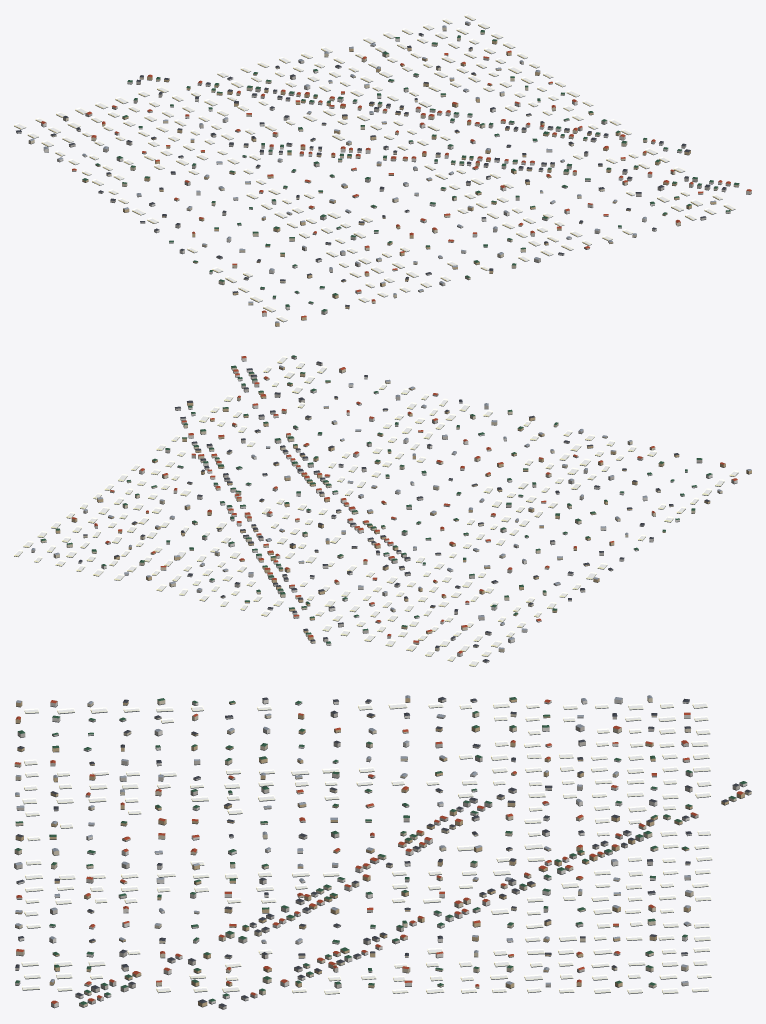
The model's file is buildings_T_E07_S03.glb.
3 views of the same model, one above another, from view 1: azimuth 30°, elevation 25°; view 2: azimuth 150°, elevation 25°; view 3: azimuth 270°, elevation 25° (orthographic). The views are drawn at different scales.
Visible parts, largest first — view 1: T_E07_S03_roofs_agri_greenhouse_arch, T_E07_S03_slope_seating_foundations, T_E07_S03_walls_wall_french_ochre_villa, T_E07_S03_walls_wall_dalat_cream_stucco, T_E07_S03_roofs_roof_pine_green_hip, T_E07_S03_walls_wall_pastel_sand_gray, T_E07_S03_walls_wall_modern_warm_white, T_E07_S03_roofs_roof_slate_French_villa_hip, T_E07_S03_roofs_roof_terracotta_gable, T_E07_S03_roofs_roof_zinc_silver_gable; view 2: T_E07_S03_roofs_agri_greenhouse_arch, T_E07_S03_slope_seating_foundations, T_E07_S03_walls_wall_french_ochre_villa, T_E07_S03_walls_wall_dalat_cream_stucco, T_E07_S03_roofs_roof_pine_green_hip, T_E07_S03_walls_wall_pastel_sand_gray, T_E07_S03_walls_wall_modern_warm_white, T_E07_S03_roofs_roof_slate_French_villa_hip, T_E07_S03_roofs_roof_terracotta_gable, T_E07_S03_roofs_roof_zinc_silver_gable; view 3: T_E07_S03_roofs_agri_greenhouse_arch, T_E07_S03_slope_seating_foundations, T_E07_S03_walls_wall_french_ochre_villa, T_E07_S03_walls_wall_dalat_cream_stucco, T_E07_S03_walls_wall_pastel_sand_gray, T_E07_S03_roofs_roof_pine_green_hip, T_E07_S03_walls_wall_modern_warm_white, T_E07_S03_roofs_roof_slate_French_villa_hip, T_E07_S03_roofs_roof_terracotta_gable, T_E07_S03_roofs_roof_zinc_silver_gable.
Part boxes in pixels (x1=…): T_E07_S03_roofs_agri_greenhouse_arch: x1=14, y1=14, x2=735, y2=321; T_E07_S03_slope_seating_foundations: x1=14, y1=16, x2=751, y2=326; T_E07_S03_walls_wall_french_ochre_villa: x1=82, y1=40, x2=716, y2=326; T_E07_S03_walls_wall_dalat_cream_stucco: x1=28, y1=27, x2=739, y2=304; T_E07_S03_roofs_roof_pine_green_hip: x1=82, y1=30, x2=739, y2=311; T_E07_S03_walls_wall_pastel_sand_gray: x1=69, y1=22, x2=730, y2=314; T_E07_S03_walls_wall_modern_warm_white: x1=16, y1=34, x2=751, y2=315; T_E07_S03_roofs_roof_slate_French_villa_hip: x1=16, y1=33, x2=726, y2=306; T_E07_S03_roofs_roof_terracotta_gable: x1=41, y1=50, x2=751, y2=317; T_E07_S03_roofs_roof_zinc_silver_gable: x1=29, y1=21, x2=716, y2=323; T_E07_S03_roofs_agri_greenhouse_arch: x1=14, y1=356, x2=738, y2=666; T_E07_S03_slope_seating_foundations: x1=14, y1=358, x2=751, y2=666; T_E07_S03_walls_wall_french_ochre_villa: x1=55, y1=366, x2=751, y2=640; T_E07_S03_walls_wall_dalat_cream_stucco: x1=40, y1=367, x2=722, y2=651; T_E07_S03_roofs_roof_pine_green_hip: x1=40, y1=355, x2=712, y2=643; T_E07_S03_walls_wall_pastel_sand_gray: x1=31, y1=356, x2=702, y2=644; T_E07_S03_walls_wall_modern_warm_white: x1=78, y1=357, x2=737, y2=662; T_E07_S03_roofs_roof_slate_French_villa_hip: x1=78, y1=361, x2=709, y2=661; T_E07_S03_roofs_roof_terracotta_gable: x1=71, y1=356, x2=737, y2=653; T_E07_S03_roofs_roof_zinc_silver_gable: x1=31, y1=365, x2=751, y2=649; T_E07_S03_roofs_agri_greenhouse_arch: x1=21, y1=702, x2=712, y2=994; T_E07_S03_slope_seating_foundations: x1=14, y1=700, x2=751, y2=1009; T_E07_S03_walls_wall_french_ochre_villa: x1=15, y1=698, x2=744, y2=1006; T_E07_S03_walls_wall_dalat_cream_stucco: x1=14, y1=697, x2=751, y2=1007; T_E07_S03_walls_wall_pastel_sand_gray: x1=14, y1=699, x2=739, y2=1009; T_E07_S03_roofs_roof_pine_green_hip: x1=15, y1=697, x2=746, y2=1004; T_E07_S03_walls_wall_modern_warm_white: x1=16, y1=698, x2=747, y2=1007; T_E07_S03_roofs_roof_slate_French_villa_hip: x1=15, y1=697, x2=751, y2=1006; T_E07_S03_roofs_roof_terracotta_gable: x1=14, y1=699, x2=744, y2=1003; T_E07_S03_roofs_roof_zinc_silver_gable: x1=14, y1=695, x2=692, y2=984.
Bounding box in the file's own units: 1830 × 30.4 × 1849.
